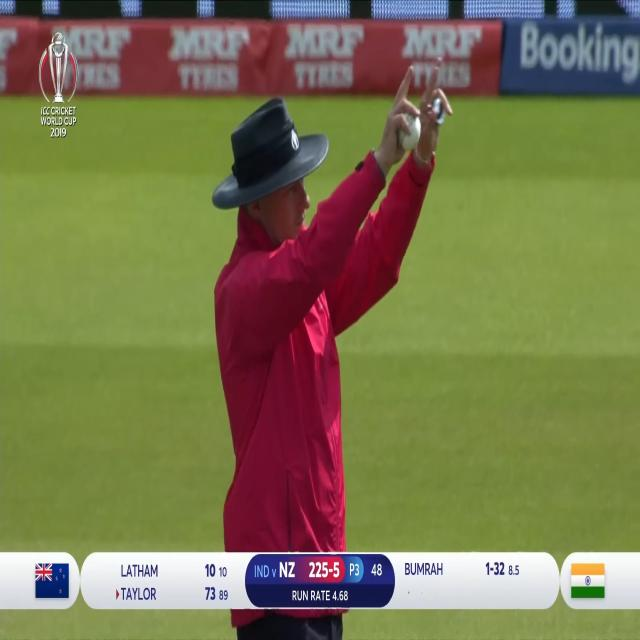ball: (398, 112, 424, 148)
